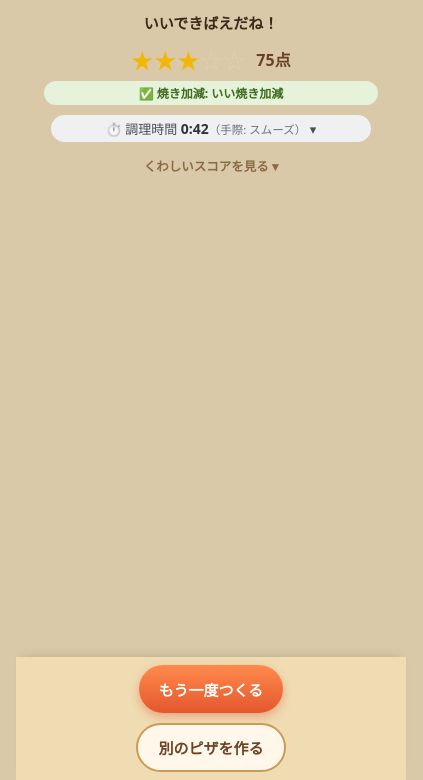
Test: ResultPanel › Timing Transparency (.cooking-timing-summary) › reveals one row per step, in order, once the <details> is opened
The image size is (423, 780).
Click the heading with class "cooking-timing-summary__summary".
click(206, 128)  # box [106,119,306,138]
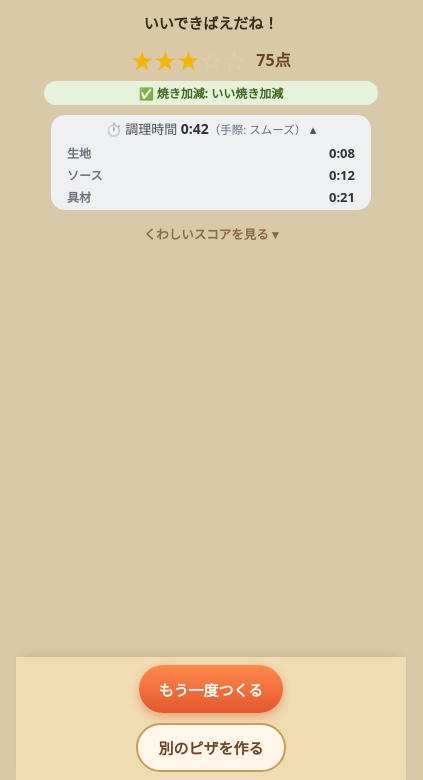
Result: the number of elements with class "cooking-timing-summary__row" is 3 at [67,144,355,162]; [67,166,355,184]; [67,188,355,206]
Result: the element with class "cooking-timing-summary__row" shows "生地" at [67,145,91,162]
Result: the element with class "cooking-timing-summary__row" shows "0:08" at [329,144,355,162]
